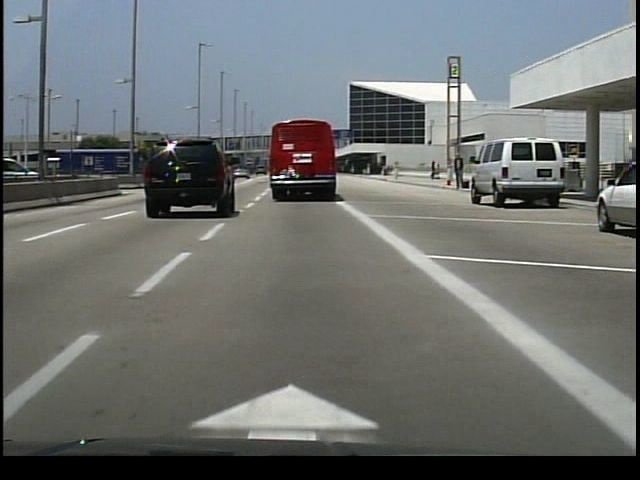person: (451, 153, 465, 194)
